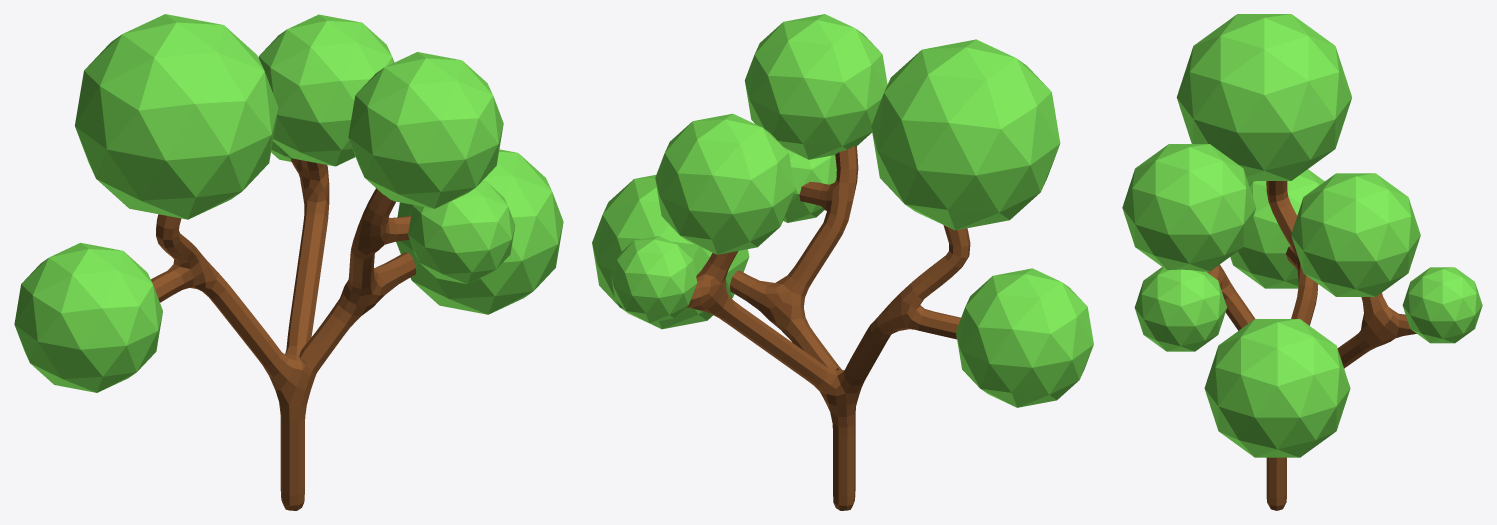
Rendered from agac2.fbx.
3 renders of one model, left to right at view 1: azimuth 30°, elevation 25°; view 2: azimuth 150°, elevation 25°; view 3: azimuth 270°, elevation 25°, orthographic. The views are drawn at different scales.
Parts seen in each view (by area): view 1: Icosphere.005, Cube, Icosphere.002, Icosphere.006, Icosphere, Icosphere.004, Icosphere.003; view 2: Icosphere.005, Cube, Icosphere.002, Icosphere, Icosphere.006, Icosphere.004, Icosphere.001, Icosphere.003; view 3: Icosphere.005, Icosphere.004, Icosphere.002, Icosphere, Cube, Icosphere.003, Icosphere.001, Icosphere.006.
Part boxes in pixels (x1,y1,x2,y2): Icosphere.005: (75,14,278,219); Cube: (151,158,415,510); Icosphere.002: (348,52,503,208); Icosphere.006: (14,242,162,392); Icosphere: (258,14,394,166); Icosphere.004: (396,149,563,314); Icosphere.003: (408,181,515,284); Icosphere.005: (871,39,1060,230); Cube: (686,146,970,510); Icosphere.002: (744,14,887,159); Icosphere: (655,113,794,254); Icosphere.006: (956,268,1093,407); Icosphere.004: (592,175,749,329); Icosphere.001: (611,236,697,322); Icosphere.003: (783,149,836,222); Icosphere.005: (1176,14,1351,180); Icosphere.004: (1204,319,1350,457); Icosphere.002: (1122,144,1256,271); Icosphere: (1291,173,1420,296); Cube: (1206,181,1416,510); Icosphere.003: (1134,267,1226,351); Icosphere.001: (1402,267,1482,343); Icosphere.006: (1230,169,1324,288).
Bounding box in the file's own units: 639 × 615 × 455.
